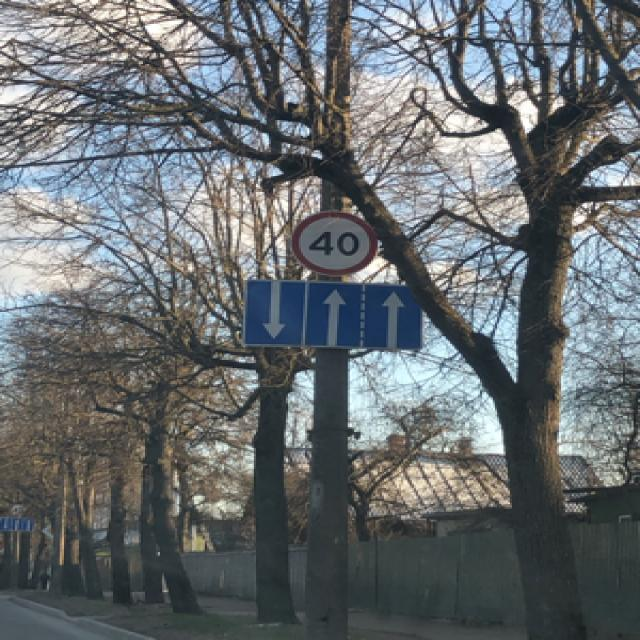speedlimit: (288, 208, 373, 275)
